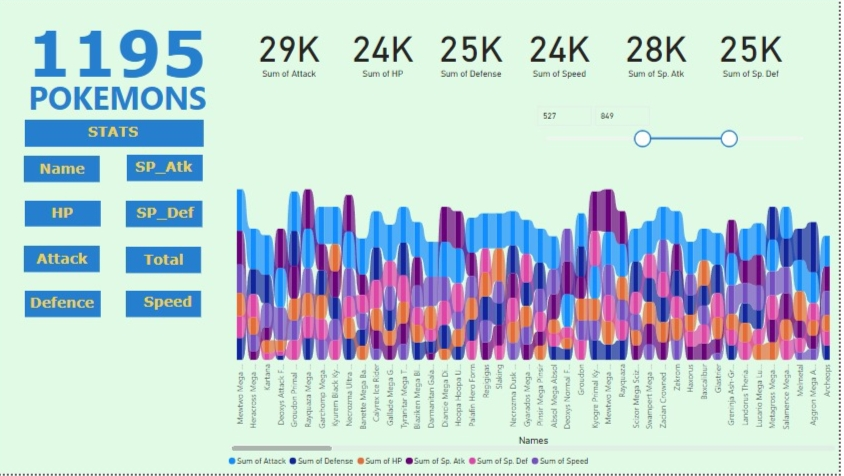

The page's visual inventory and layout, read from the dashboard file:
{"tool":"powerbi","page":{"name":"Page 3","canvas":[1280,720],"ordinal":2},"visuals":[{"type":"shape","box":[45.7,238.5,115,40],"z":0},{"type":"shape","box":[46.4,305.9,115,39.4],"z":1},{"type":"shape","box":[46.4,442.4,115,40],"z":2},{"type":"shape","box":[200.4,442.1,114.3,39.6],"z":3},{"type":"shape","box":[201,236.4,115,40],"z":4},{"type":"shape","box":[200.4,306.5,115.8,39.6],"z":5},{"type":"shape","box":[45.7,375,115,40],"z":6},{"type":"textbox","box":[45.5,238.9,115.3,39.4],"z":7},{"type":"textbox","box":[34.3,305.7,137.3,49],"z":8},{"type":"textbox","box":[44.9,375.7,115,40],"z":9},{"type":"textbox","box":[200.4,236.4,114.3,39.6],"z":10},{"type":"textbox","box":[44.9,442.4,115.3,39.4],"z":11},{"type":"textbox","box":[201.9,306.5,115.8,39.6],"z":12},{"type":"textbox","box":[201.1,441.4,124.2,50.7],"z":13},{"type":"shape","box":[200.4,375.1,114.3,39.6],"z":14},{"type":"textbox","box":[200.4,376.6,114.3,41.1],"z":15},{"type":"card","fields":{"Values":["Sum(pokemon.Defense)"]},"box":[635.9,19.6,173.3,112.8],"z":16},{"type":"card","fields":{"Values":["Sum(pokemon.Speed)"]},"box":[765.1,19.6,183.1,112.8],"z":17},{"type":"ribbonChart","fields":{"Y":["Sum(pokemon.Attack)","Sum(pokemon.Defense)","Sum(pokemon.HP)","Sum(pokemon.Sp. Atk)","Sum(pokemon.Sp. Def)","Sum(pokemon.Speed)"],"Category":["pokemon.Names"]},"box":[349.8,268.1,930.2,451.2],"z":18},{"type":"card","fields":{"Values":["Sum(pokemon.Sp. Atk)"]},"box":[917.1,19.6,173.3,112.8],"z":19},{"type":"card","fields":{"Values":["Sum(pokemon.Sp. Def)"]},"box":[1059.3,19.6,174.9,112.8],"z":20},{"type":"slicer","title":"TOTAL","fields":{"Values":["pokemon.Total"]},"box":[810.8,153.7,436.5,111.2],"z":21},{"type":"textbox","box":[35,16.8,303.2,140.2],"z":22},{"type":"textbox","box":[25.9,111.2,323,88.4],"z":23},{"type":"shape","box":[47,182.7,271.5,40.9],"z":24},{"type":"textbox","box":[54.6,182.7,251.8,39.4],"z":25},{"type":"card","fields":{"Values":["Sum(pokemon.HP)"]},"box":[501.9,19.6,174.9,112.8],"z":26},{"type":"card","fields":{"Values":["Sum(pokemon.Attack)"]},"box":[361.3,19.6,173.3,112.8],"z":27}]}

Visuals, with their boxes in screenshot pixels (x1, y1, x2, y2), scaled from the page's 1280x720 canvas onto the 844x476 screenshot:
shape: [30, 158, 106, 184]
shape: [31, 202, 106, 228]
shape: [31, 292, 106, 319]
shape: [132, 292, 208, 318]
shape: [133, 156, 208, 183]
shape: [132, 203, 208, 229]
shape: [30, 248, 106, 274]
textbox: [30, 158, 106, 184]
textbox: [23, 202, 113, 234]
textbox: [30, 248, 105, 275]
textbox: [132, 156, 208, 182]
textbox: [30, 292, 106, 319]
textbox: [133, 203, 209, 229]
textbox: [133, 292, 214, 325]
shape: [132, 248, 208, 274]
textbox: [132, 249, 208, 276]
card - Sum(pokemon.Defense): [419, 13, 534, 88]
card - Sum(pokemon.Speed): [504, 13, 625, 88]
ribbonChart - Sum(pokemon.Attack) x Sum(pokemon.Defense): [231, 177, 843, 475]
card - Sum(pokemon.Sp. Atk): [605, 13, 719, 88]
card - Sum(pokemon.Sp. Def): [698, 13, 814, 88]
"TOTAL" slicer: [535, 102, 822, 175]
textbox: [23, 11, 223, 104]
textbox: [17, 74, 230, 132]
shape: [31, 121, 210, 148]
textbox: [36, 121, 202, 147]
card - Sum(pokemon.HP): [331, 13, 446, 88]
card - Sum(pokemon.Attack): [238, 13, 353, 88]
